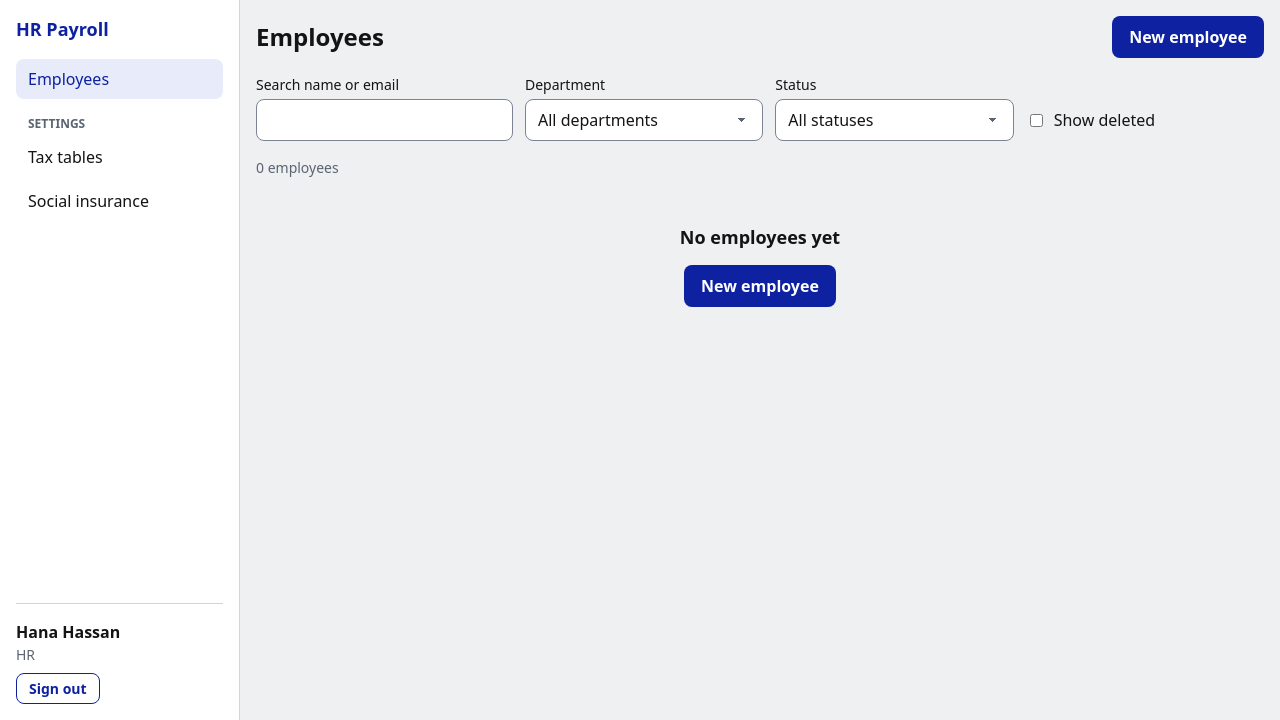
Test: App routes - sidebar (edge case 2) › moves aria-current when navigating with a link
Check: the heading "Employees" is shown, box [256,22,384,52]
Click the link "Social insurance" at (88, 201), box [28,190,149,212]
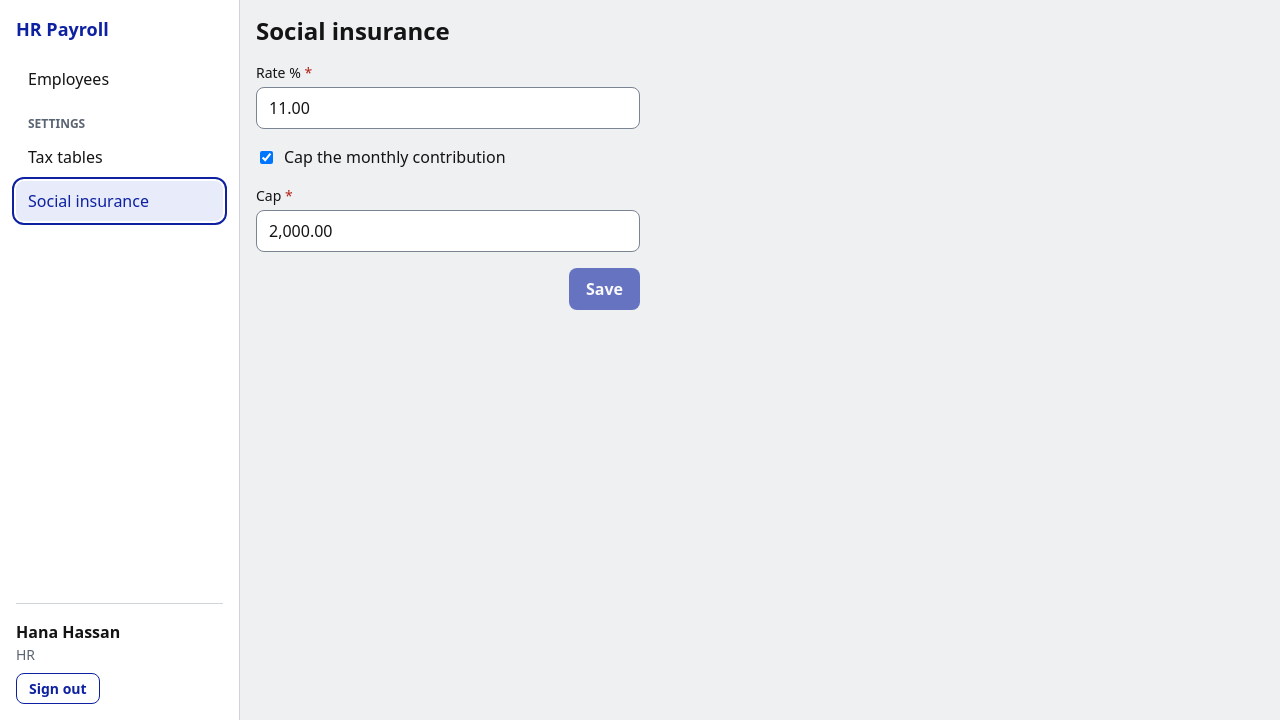
Check: the heading "Social insurance" is shown, box [256,14,450,47]
